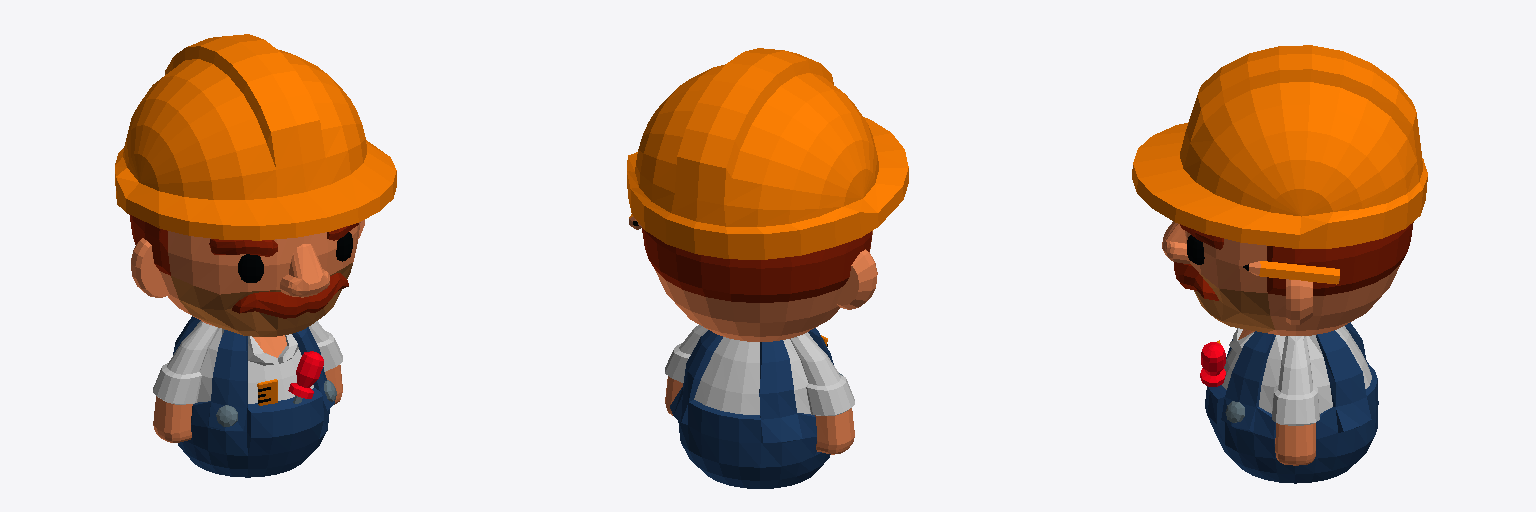
File: character_builder.obj
3 renders of one model, left to right at view 1: azimuth 30°, elevation 25°; view 2: azimuth 150°, elevation 25°; view 3: azimuth 270°, elevation 25°, orthographic.
Visible parts, largest first — view 1: character_builder_hat_Sphere.007, character_builder_head_Cube.187, character_builder_body_Cube.225, character_builder_armRight_Cube.234, character_builder_armLeft_Cube.233; view 2: character_builder_hat_Sphere.007, character_builder_body_Cube.225, character_builder_head_Cube.187, character_builder_armRight_Cube.234, character_builder_armLeft_Cube.233; view 3: character_builder_hat_Sphere.007, character_builder_head_Cube.187, character_builder_body_Cube.225, character_builder_armLeft_Cube.233.
Part boxes in pixels (bbox=[...]): character_builder_hat_Sphere.007: bbox=[115, 34, 396, 240]; character_builder_head_Cube.187: bbox=[129, 214, 364, 336]; character_builder_body_Cube.225: bbox=[173, 316, 336, 477]; character_builder_armRight_Cube.234: bbox=[153, 322, 217, 442]; character_builder_armLeft_Cube.233: bbox=[309, 321, 342, 404]; character_builder_hat_Sphere.007: bbox=[627, 48, 908, 259]; character_builder_body_Cube.225: bbox=[670, 328, 842, 488]; character_builder_head_Cube.187: bbox=[629, 214, 877, 341]; character_builder_armRight_Cube.234: bbox=[790, 333, 854, 454]; character_builder_armLeft_Cube.233: bbox=[665, 325, 707, 415]; character_builder_hat_Sphere.007: bbox=[1132, 45, 1427, 248]; character_builder_head_Cube.187: bbox=[1162, 221, 1413, 335]; character_builder_body_Cube.225: bbox=[1200, 322, 1378, 483]; character_builder_armLeft_Cube.233: bbox=[1272, 336, 1319, 465].
Size of the model in its own units: 1.23 by 1.97 by 1.31.